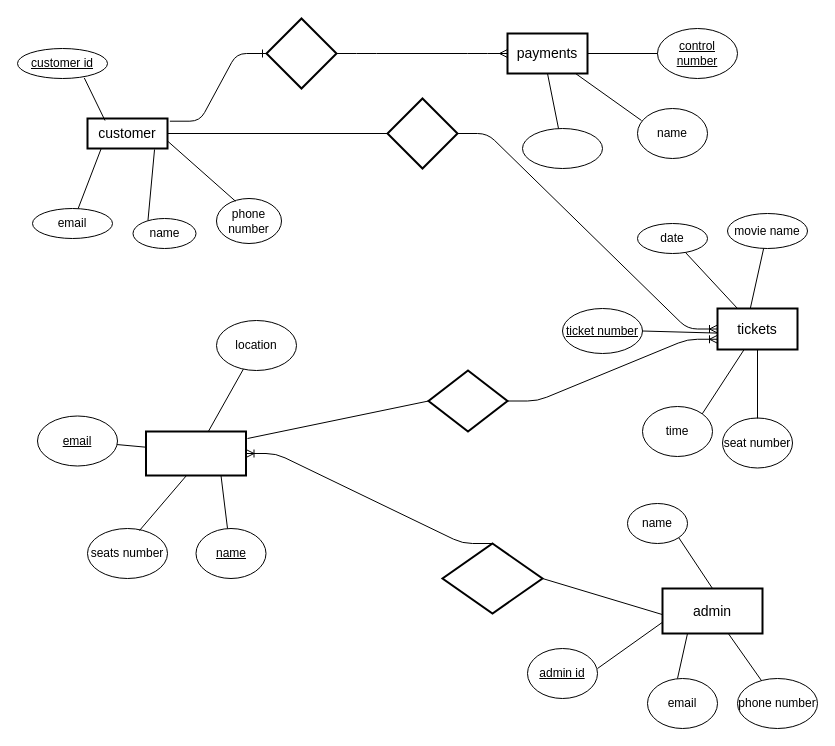
Some shapes in this 835 by 746 pixel diagram are drawn without their labels. Here are the shapes that lost their labels. From the top down, the centre of each, then its label:
At point (301, 53): "makes".
At point (422, 133): "books".
At point (562, 148): "ammount".
At point (467, 400): "publishes".
At point (195, 453): "cinema halls".
At point (492, 578): "manages".
